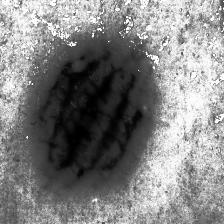Benign Marking or Mole: (37, 54, 150, 182)
